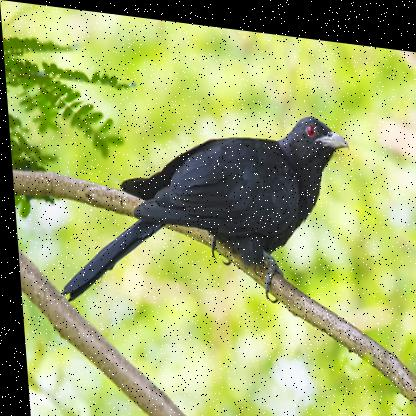Burung: (44, 82, 358, 330)
